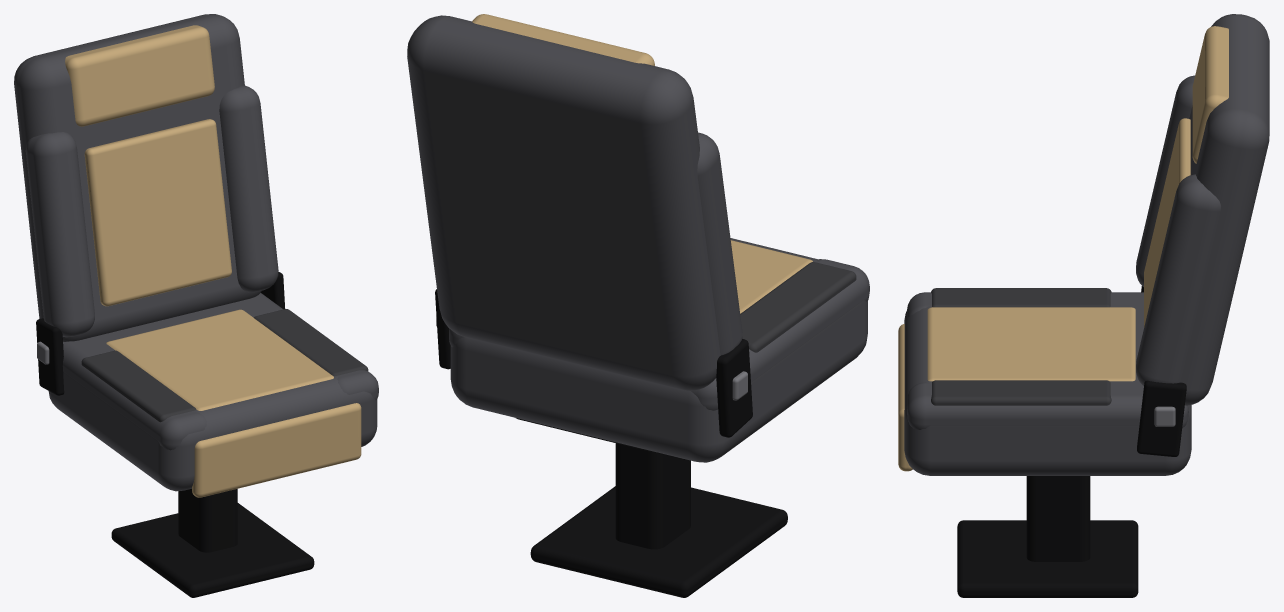
File: seat.obj
3 renders of one model, left to right at view 1: azimuth 30°, elevation 25°; view 2: azimuth 150°, elevation 25°; view 3: azimuth 270°, elevation 25°, orthographic. The views are drawn at different scales.
Parts seen in each view (by area): view 1: seat; view 2: seat; view 3: seat.
Boxes of the visible parts, x1,y1,x2,y2 form: seat: (14,14,378,597); seat: (407,14,869,597); seat: (898,14,1269,597).
Bounding box in the file's own units: 0.8294 × 1.52 × 1.01.
